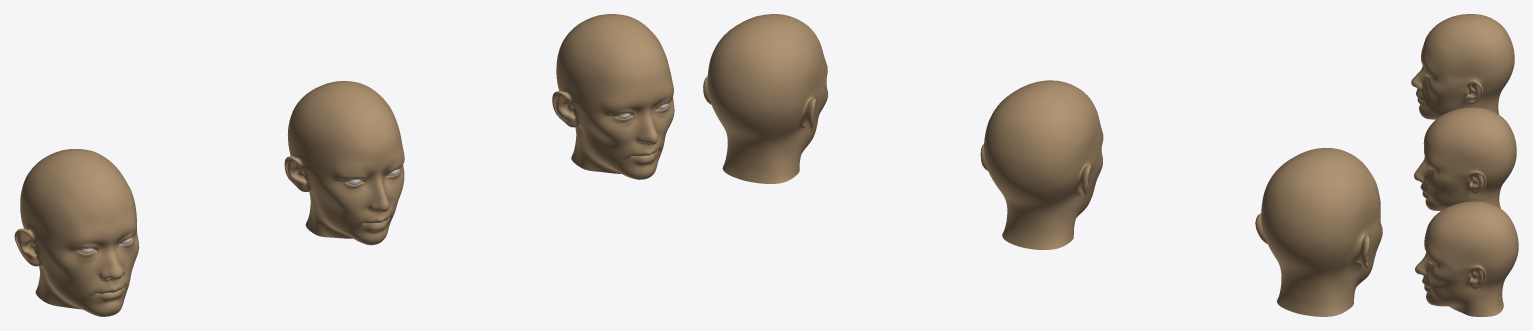
Rendered from newheadall1.fbx.
3 views of the same model, side by side, from view 1: azimuth 30°, elevation 25°; view 2: azimuth 150°, elevation 25°; view 3: azimuth 270°, elevation 25° (orthographic). The views are drawn at different scales.
Visible parts, largest first — view 1: HG_Body, HG_Body.002, HG_Body.004; view 2: HG_Body, HG_Body.002, HG_Body.004; view 3: HG_Body.002, HG_Body, HG_Body.004.
Part boxes in pixels (bbox=[...]): HG_Body: bbox=[14, 149, 139, 316]; HG_Body.002: bbox=[552, 14, 674, 179]; HG_Body.004: bbox=[284, 81, 404, 245]; HG_Body: bbox=[1255, 148, 1382, 316]; HG_Body.002: bbox=[703, 14, 828, 183]; HG_Body.004: bbox=[980, 80, 1103, 249]; HG_Body.002: bbox=[1415, 201, 1518, 316]; HG_Body: bbox=[1411, 14, 1514, 119]; HG_Body.004: bbox=[1414, 107, 1516, 210].
Bounding box in the file's own units: 114 × 23.63 × 22.78.
